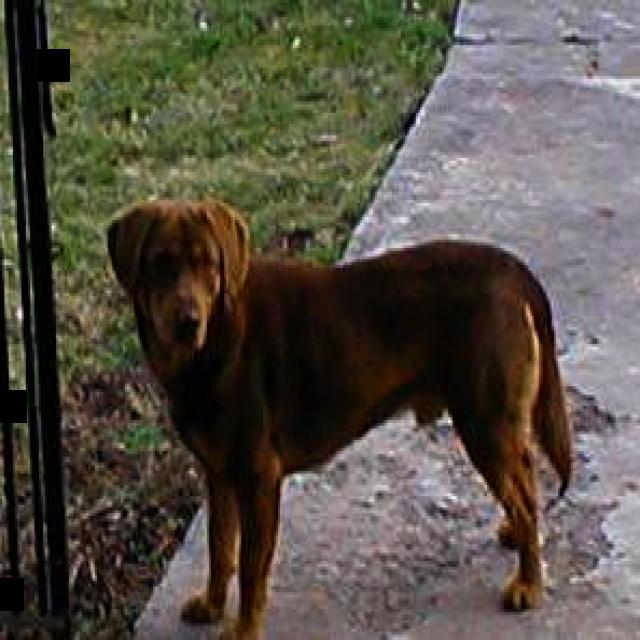adult_dog: (100, 191, 579, 640)
